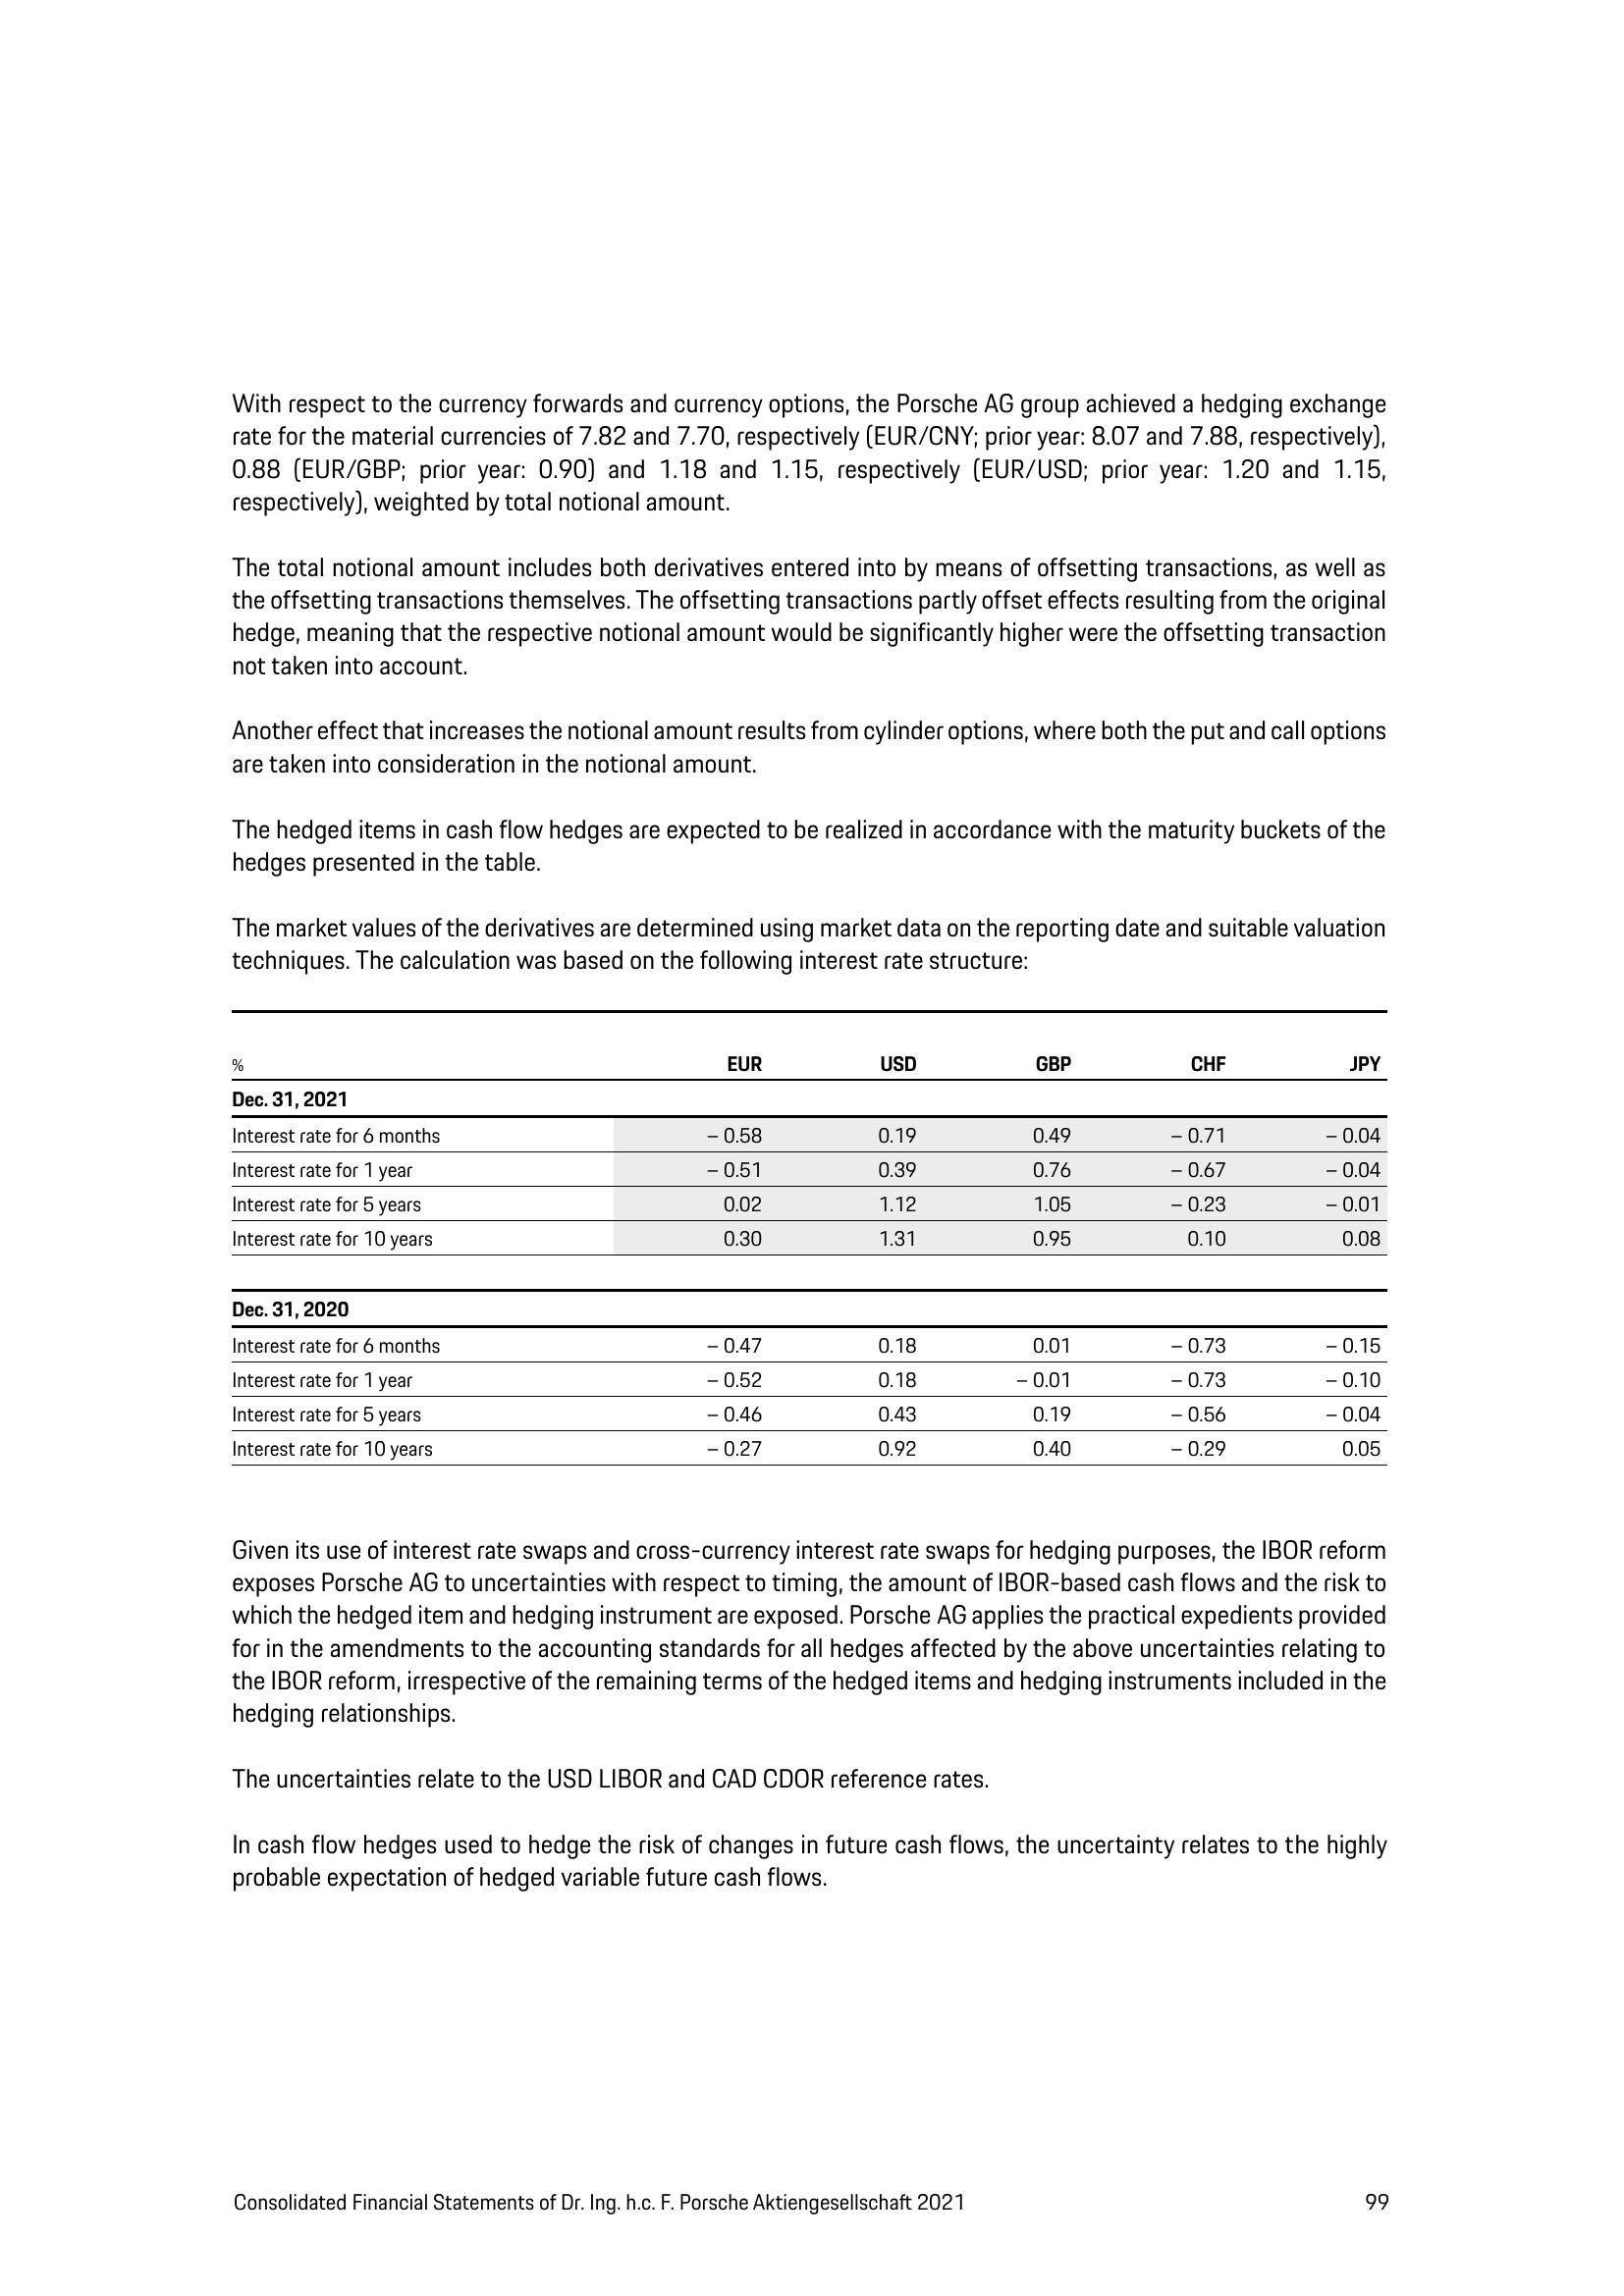Footer: (0, 2152, 1624, 2296)
Header: (0, 0, 1624, 202)
Table: (178, 1012, 1411, 1481)
